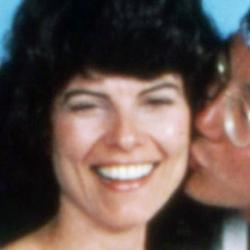face: (6, 5, 207, 229), (181, 7, 250, 220)
